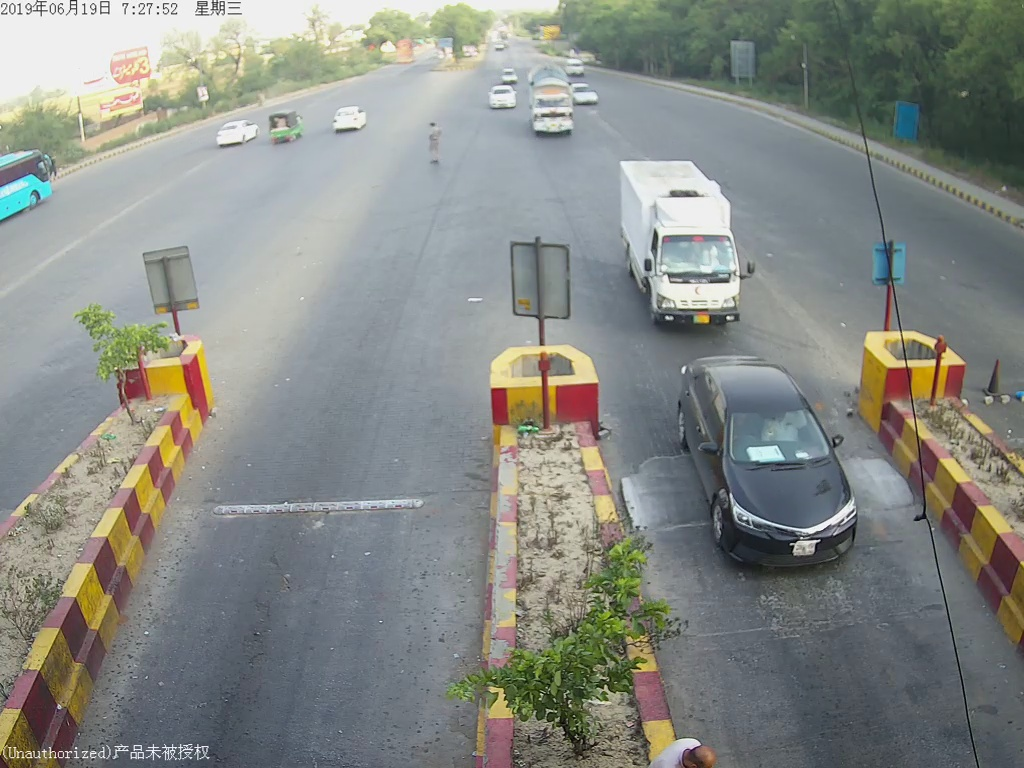Cat-1: (674, 348, 877, 578)
Cat-4: (617, 152, 759, 329), (526, 69, 579, 141)
